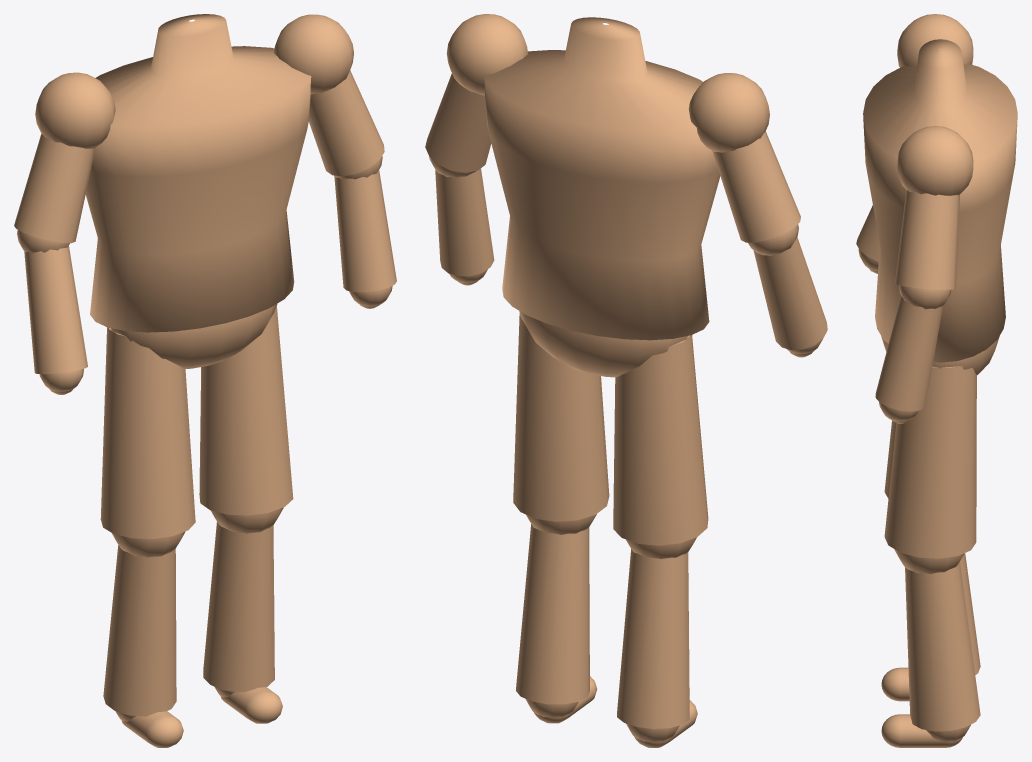
Rendered from sturdy.glb.
The picture shows the model from 3 angles, left to right: view 1: azimuth 30°, elevation 25°; view 2: azimuth 150°, elevation 25°; view 3: azimuth 270°, elevation 25°; orthographic projection. The views are drawn at different scales.
Parts seen in each view (by area): view 1: torso_sculpt, thigh_r, thigh_l, calf_r, calf_l, forearm_r, upper_arm_r, forearm_l, upper_arm_l, shoulder_r, shoulder_l, pelvis (+6 smaller); view 2: torso_sculpt, thigh_r, thigh_l, calf_l, calf_r, upper_arm_r, forearm_l, forearm_r, shoulder_r, pelvis, upper_arm_l, shoulder_l (+3 smaller); view 3: torso_sculpt, thigh_l, calf_l, upper_arm_l, forearm_l, shoulder_l, shoulder_r, foot_l, thigh_l_joint, upper_arm_l_joint, calf_r, foot_r (+5 smaller).
Boxes of the visible parts, bbox=[...] form: torso_sculpt: bbox=[85, 14, 311, 332]; thigh_r: bbox=[100, 327, 195, 538]; thigh_l: bbox=[199, 305, 293, 515]; calf_r: bbox=[103, 545, 176, 716]; calf_l: bbox=[203, 522, 274, 692]; forearm_r: bbox=[24, 245, 87, 374]; upper_arm_r: bbox=[14, 133, 95, 243]; forearm_l: bbox=[334, 170, 396, 292]; upper_arm_l: bbox=[308, 70, 384, 176]; shoulder_r: bbox=[35, 72, 115, 148]; shoulder_l: bbox=[274, 14, 353, 94]; pelvis: bbox=[111, 304, 277, 368]; torso_sculpt: bbox=[484, 17, 720, 340]; thigh_r: bbox=[613, 335, 708, 545]; thigh_l: bbox=[513, 314, 609, 521]; calf_l: bbox=[516, 524, 589, 704]; calf_r: bbox=[617, 549, 689, 728]; upper_arm_r: bbox=[712, 131, 800, 242]; forearm_l: bbox=[435, 168, 494, 276]; forearm_r: bbox=[753, 237, 827, 350]; shoulder_r: bbox=[688, 73, 769, 152]; pelvis: bbox=[519, 311, 687, 377]; upper_arm_l: bbox=[425, 73, 491, 172]; shoulder_l: bbox=[446, 14, 528, 95]; torso_sculpt: bbox=[863, 39, 1017, 362]; thigh_l: bbox=[884, 366, 976, 558]; calf_l: bbox=[905, 561, 980, 731]; upper_arm_l: bbox=[895, 190, 959, 289]; forearm_l: bbox=[875, 296, 942, 411]; shoulder_l: bbox=[897, 126, 973, 195]; shoulder_r: bbox=[897, 14, 973, 67]; foot_l: bbox=[881, 714, 962, 747]; thigh_l_joint: bbox=[894, 549, 964, 574]; upper_arm_l_joint: bbox=[898, 285, 951, 309]; calf_r: bbox=[960, 553, 980, 674]; foot_r: bbox=[881, 667, 909, 701].
Size of the model in its own units: 0.8138 by 1.48 by 0.3233.
